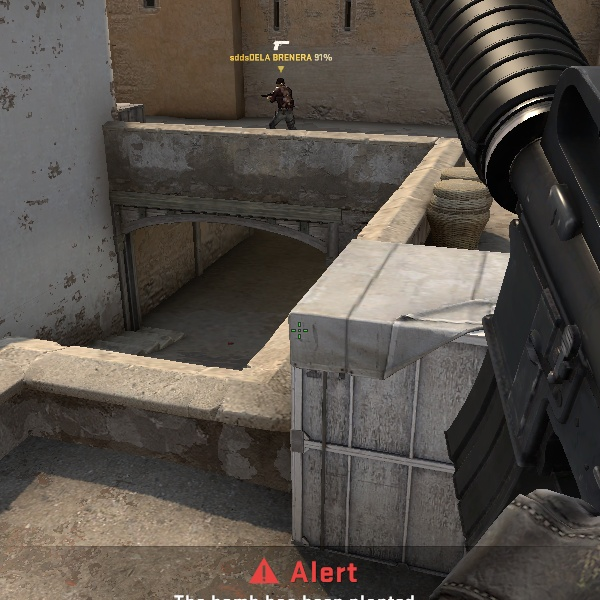t_body: (261, 74, 299, 127)
